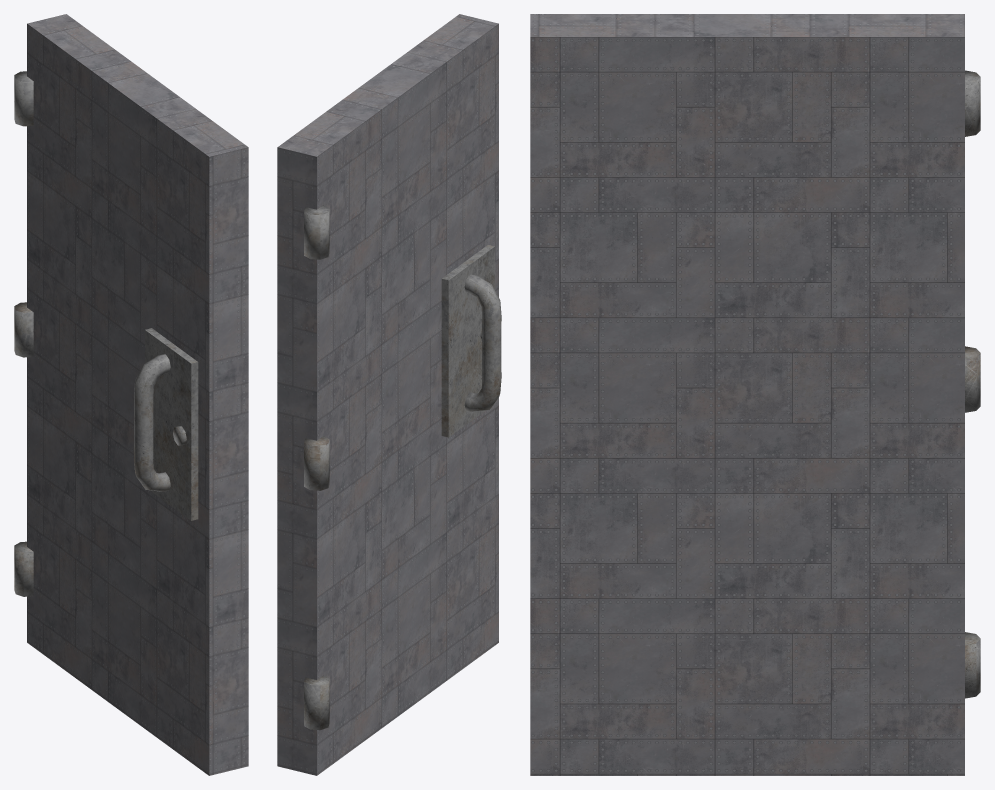
The model's file is Door.fbx.
3 views of the same model, side by side, from view 1: azimuth 30°, elevation 25°; view 2: azimuth 150°, elevation 25°; view 3: azimuth 270°, elevation 25° (orthographic). The views are drawn at different scales.
Visible parts, largest first — view 1: Door; view 2: Door; view 3: Door.
Boxes of the visible parts, bbox=[...] form: Door: bbox=[14, 14, 248, 775]; Door: bbox=[277, 14, 501, 775]; Door: bbox=[530, 14, 980, 775].
Size of the model in its own units: 0.1961 by 1.5 by 0.829.
